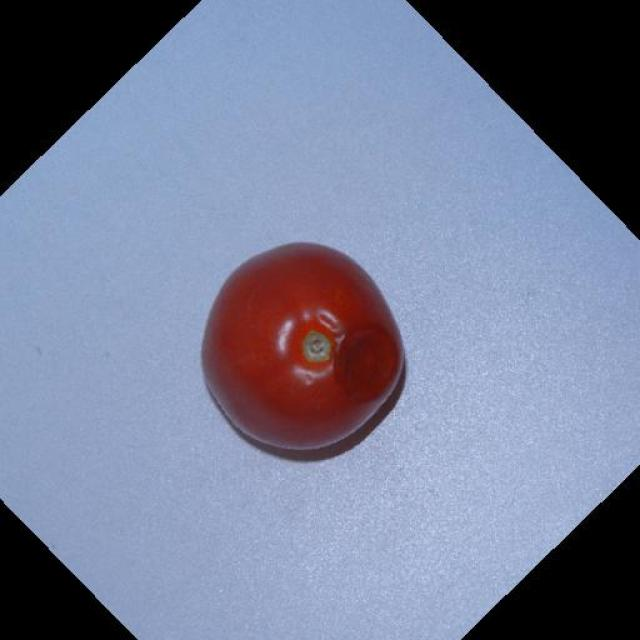Stale_tomato: (190, 225, 425, 461)
